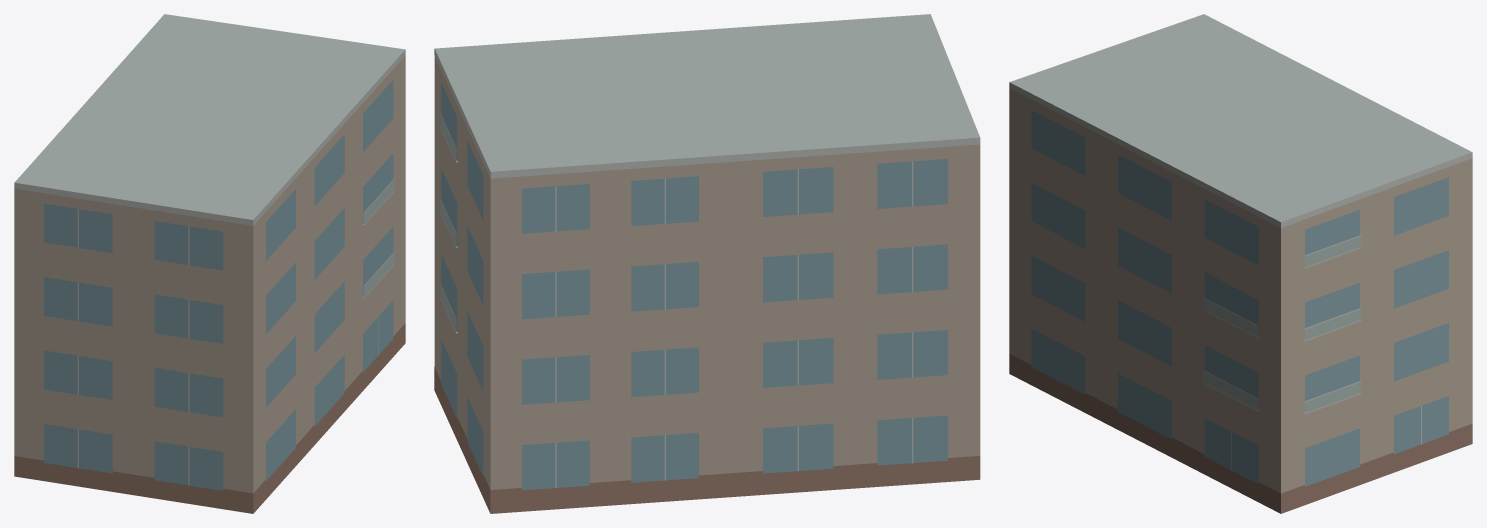
Rendered from survey-upis-32949249.glb.
The picture shows the model from 3 angles, left to right: view 1: azimuth 30°, elevation 25°; view 2: azimuth 150°, elevation 25°; view 3: azimuth 270°, elevation 25°; orthographic projection. The views are drawn at different scales.
Parts seen in each view (by area): view 1: survey-upis-32949249.tmp; view 2: survey-upis-32949249.tmp; view 3: survey-upis-32949249.tmp.
Part boxes in pixels (x1,y1,x2,y2): survey-upis-32949249.tmp: (14,14,405,513); survey-upis-32949249.tmp: (434,14,980,513); survey-upis-32949249.tmp: (1009,14,1472,513).
Bounding box in the file's own units: 18.69 × 12.2 × 17.58.
